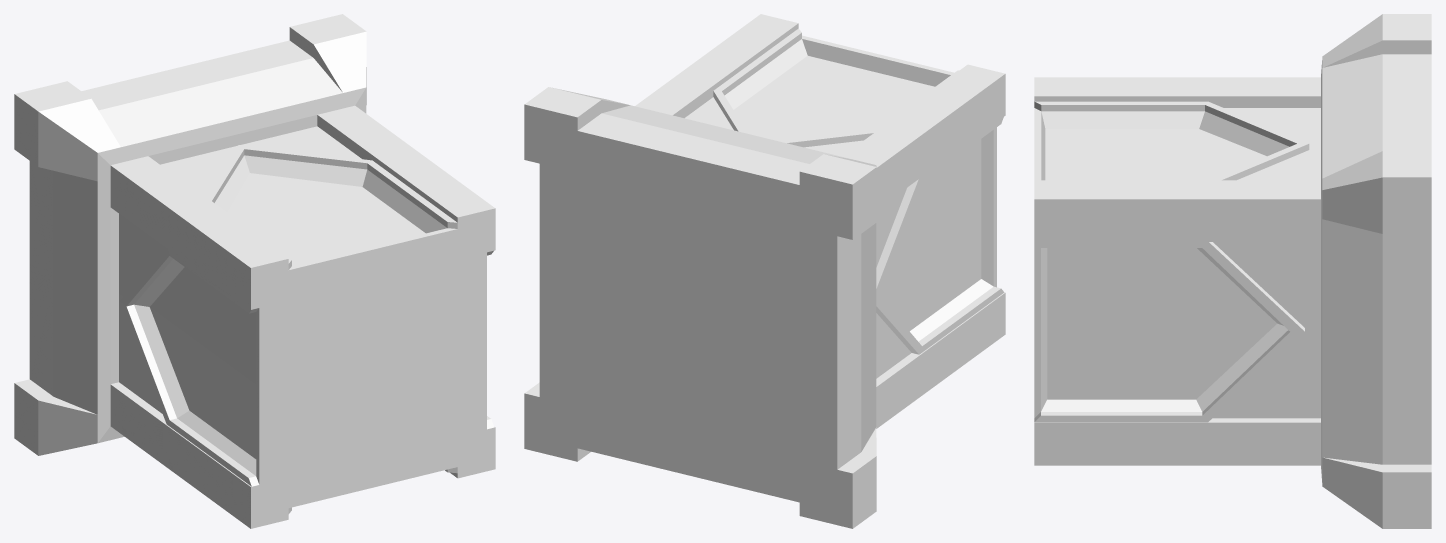
File: venice_building_12.fbx
The picture shows the model from 3 angles, left to right: view 1: azimuth 30°, elevation 25°; view 2: azimuth 150°, elevation 25°; view 3: azimuth 270°, elevation 25°; orthographic projection. The views are drawn at different scales.
Parts seen in each view (by area): view 1: Cube.328; view 2: Cube.328; view 3: Cube.328.
Boxes of the visible parts, <box> form: Cube.328: <box>14,14,495,528</box>; Cube.328: <box>524,14,1005,528</box>; Cube.328: <box>1034,14,1431,528</box>.
Bounding box in the file's own units: 694 × 695 × 712.
